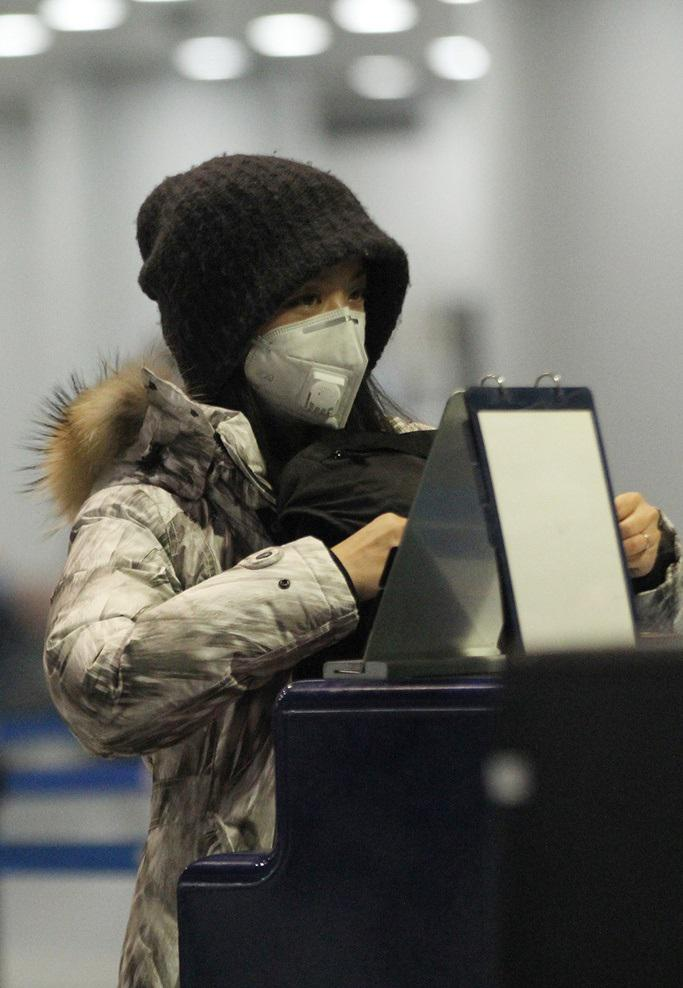OK: (248, 252, 374, 430)
